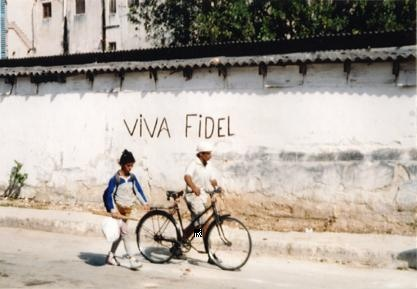car: (136, 186, 253, 273)
person: (169, 141, 227, 268), (103, 150, 153, 272)
